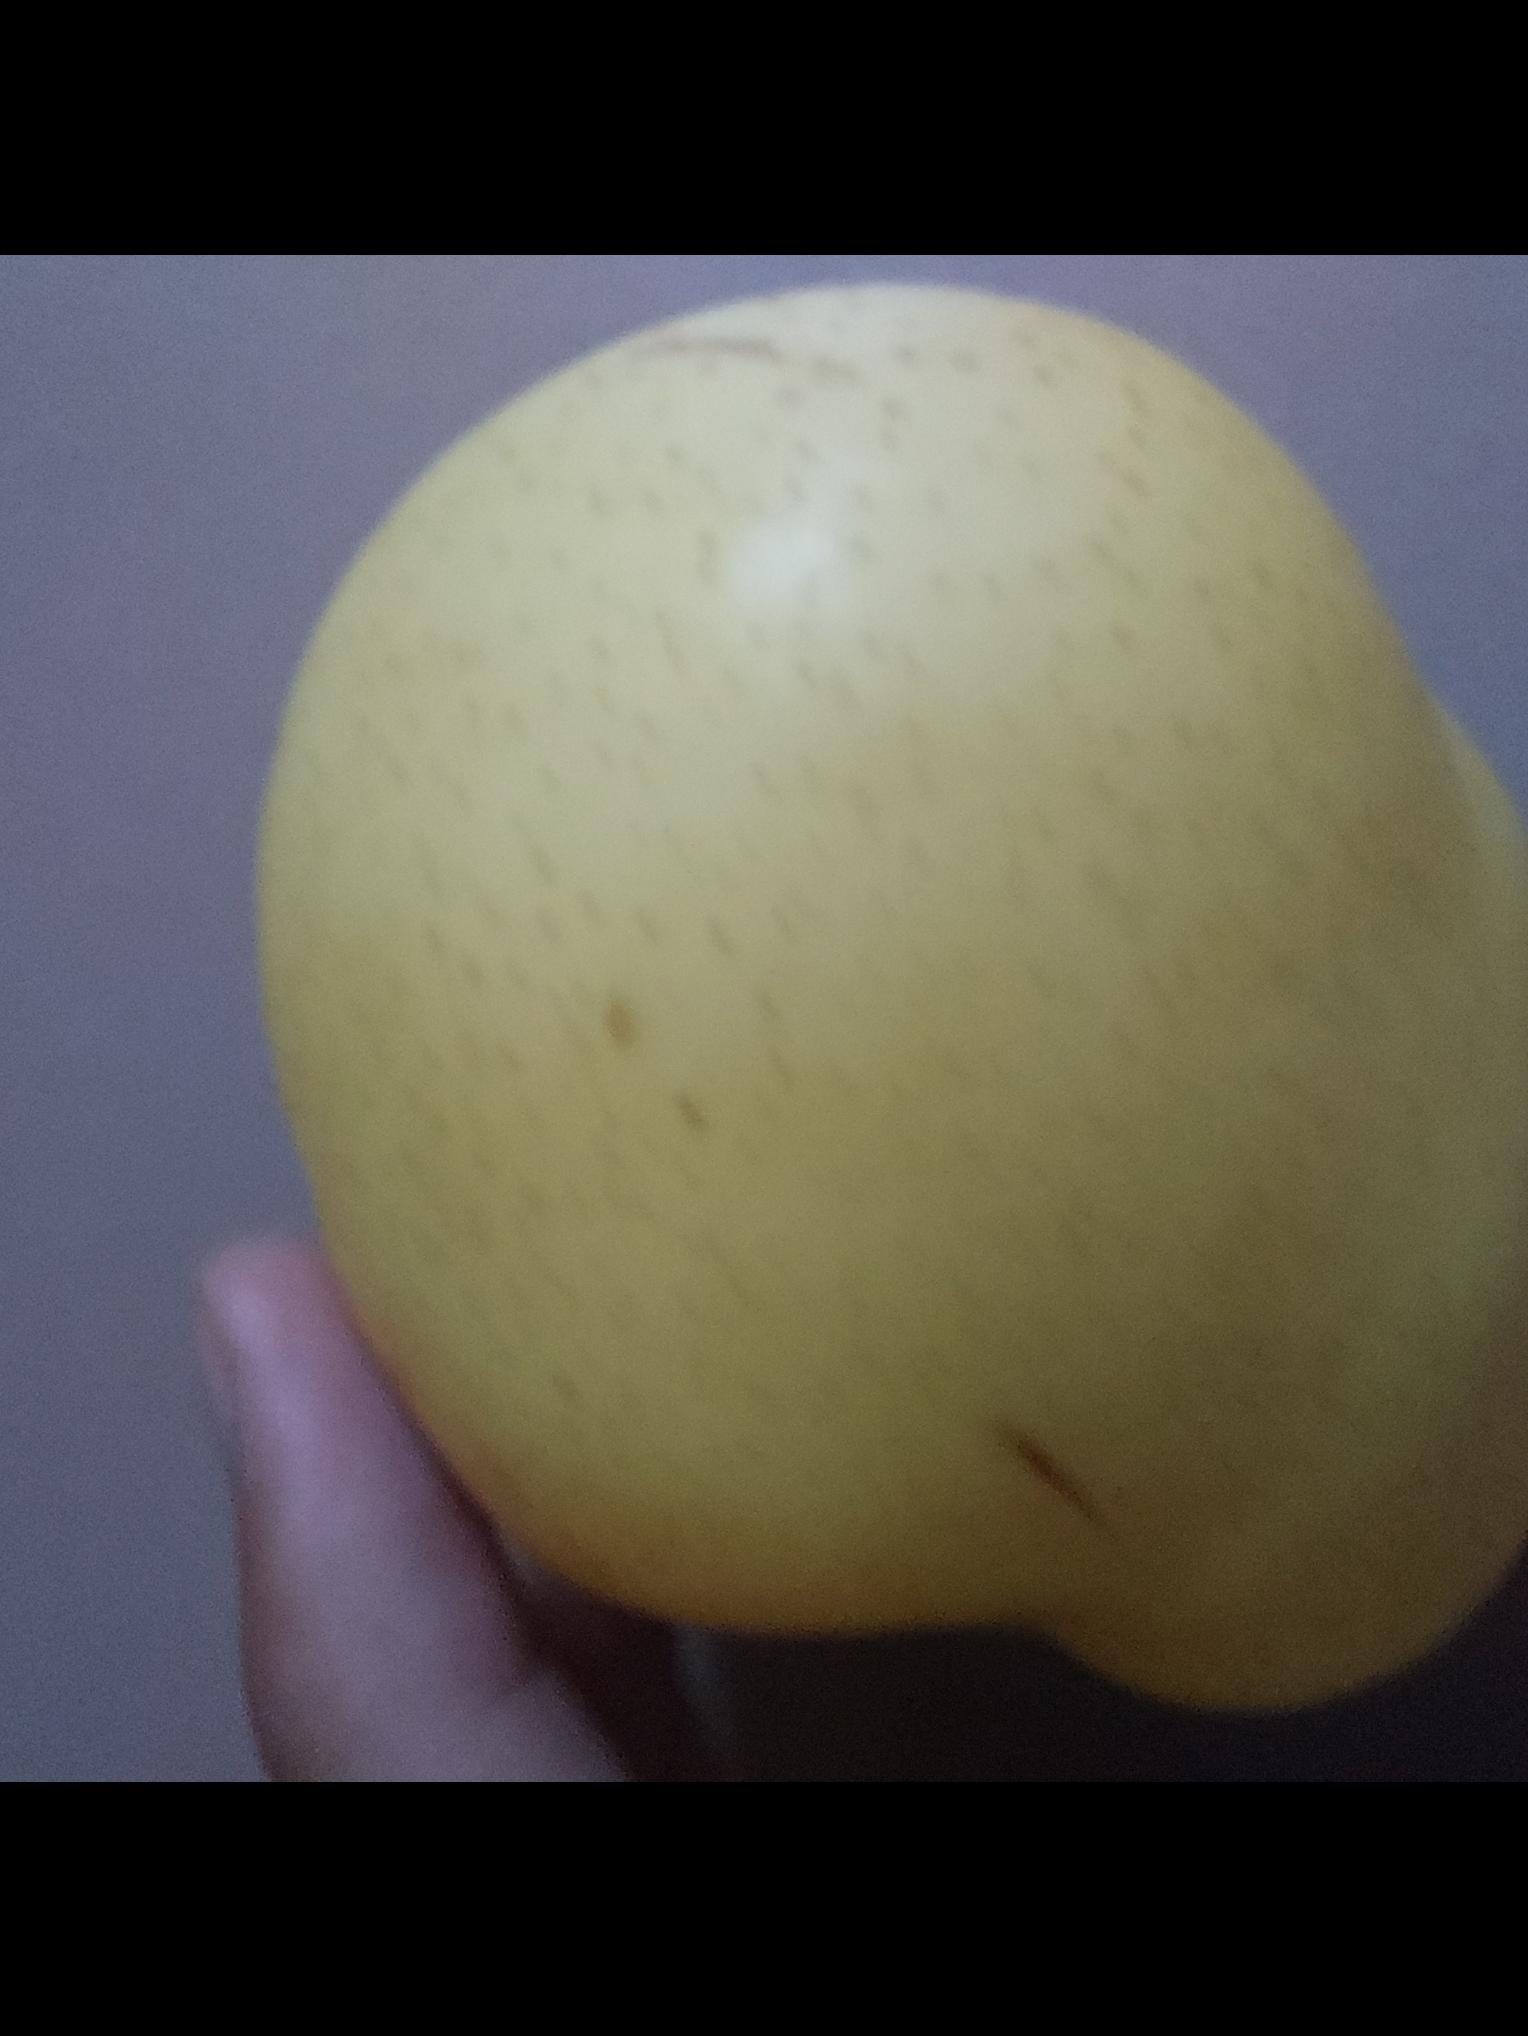Good Pear: (246, 269, 1528, 1719)
